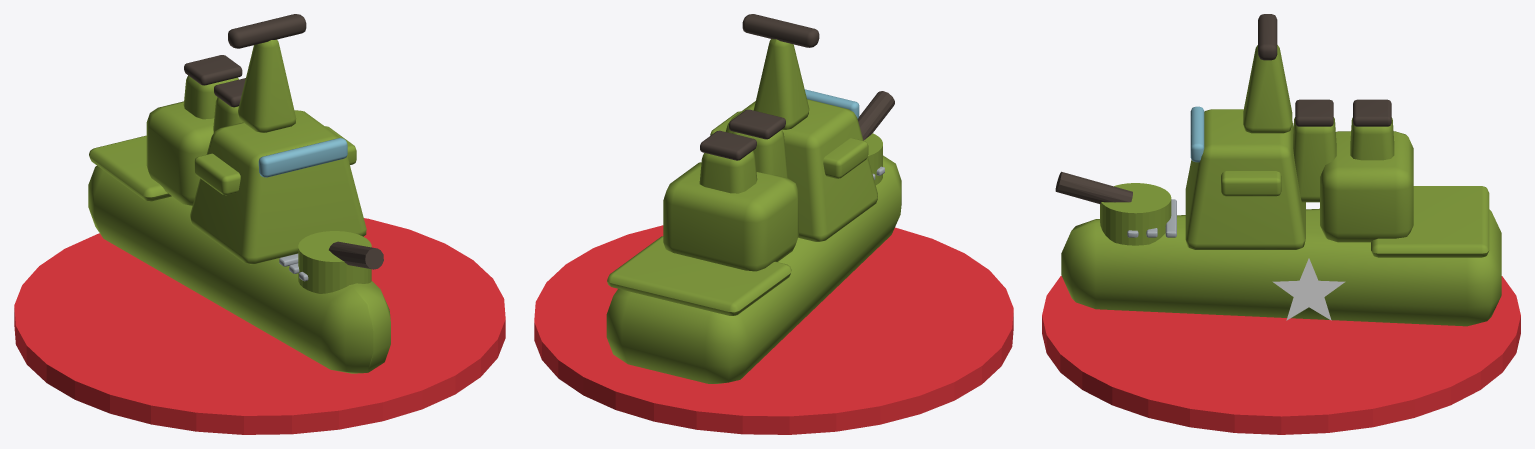
The model's file is usa_navy_lod0.glb.
3 renders of one model, left to right at view 1: azimuth 30°, elevation 25°; view 2: azimuth 150°, elevation 25°; view 3: azimuth 270°, elevation 25°, orthographic. The views are drawn at different scales.
Visible parts, largest first — view 1: base_pedestal, body_hull; view 2: body_hull, base_pedestal; view 3: body_hull, base_pedestal.
Boxes of the visible parts, left/top/right/bottom form: base_pedestal: left=14, top=218, right=505, bottom=434; body_hull: left=88, top=14, right=390, bottom=373; body_hull: left=606, top=14, right=901, bottom=383; base_pedestal: left=534, top=225, right=1013, bottom=434; body_hull: left=1055, top=14, right=1501, bottom=326; base_pedestal: left=1042, top=276, right=1520, bottom=434.
Size of the model in its own units: 0.78 by 0.5476 by 0.78.
